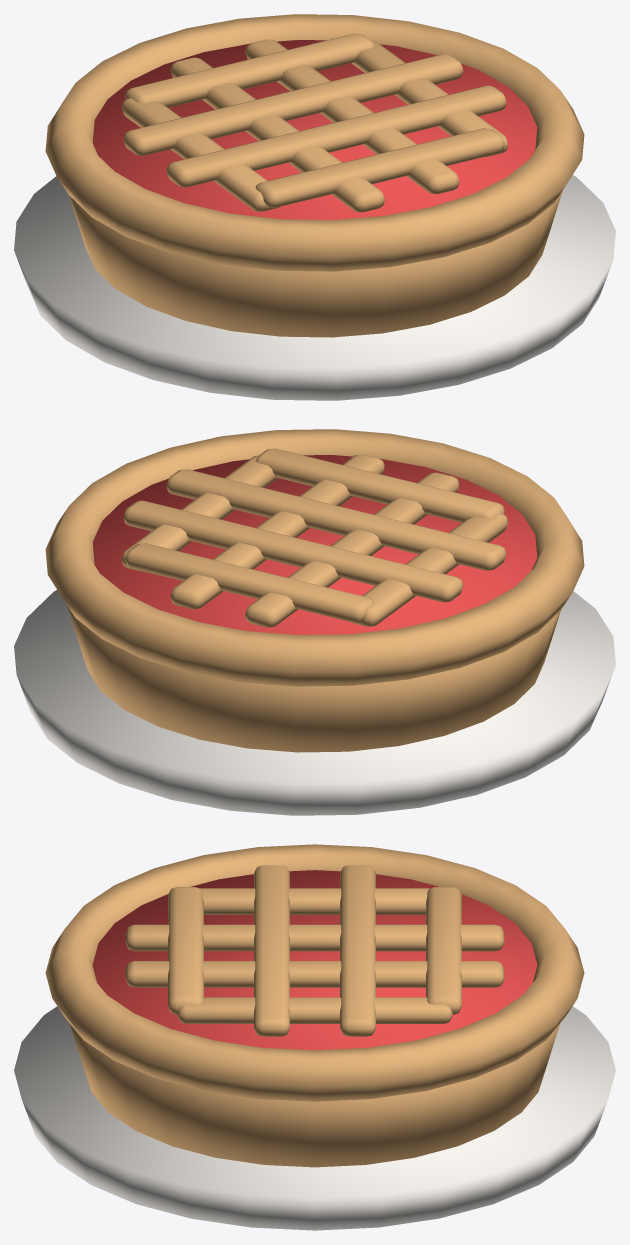
Rendered from festival-pie.glb.
3 views of the same model, one above another, from view 1: azimuth 30°, elevation 25°; view 2: azimuth 150°, elevation 25°; view 3: azimuth 270°, elevation 25° (orthographic).
Visible parts, largest first — view 1: pie; view 2: pie; view 3: pie.
Part boxes in pixels (x1,y1,x2,y2): pie: (14,14,615,400); pie: (14,429,615,815); pie: (14,844,615,1230).
Bounding box in the file's own units: 0.42 × 0.129 × 0.42.
